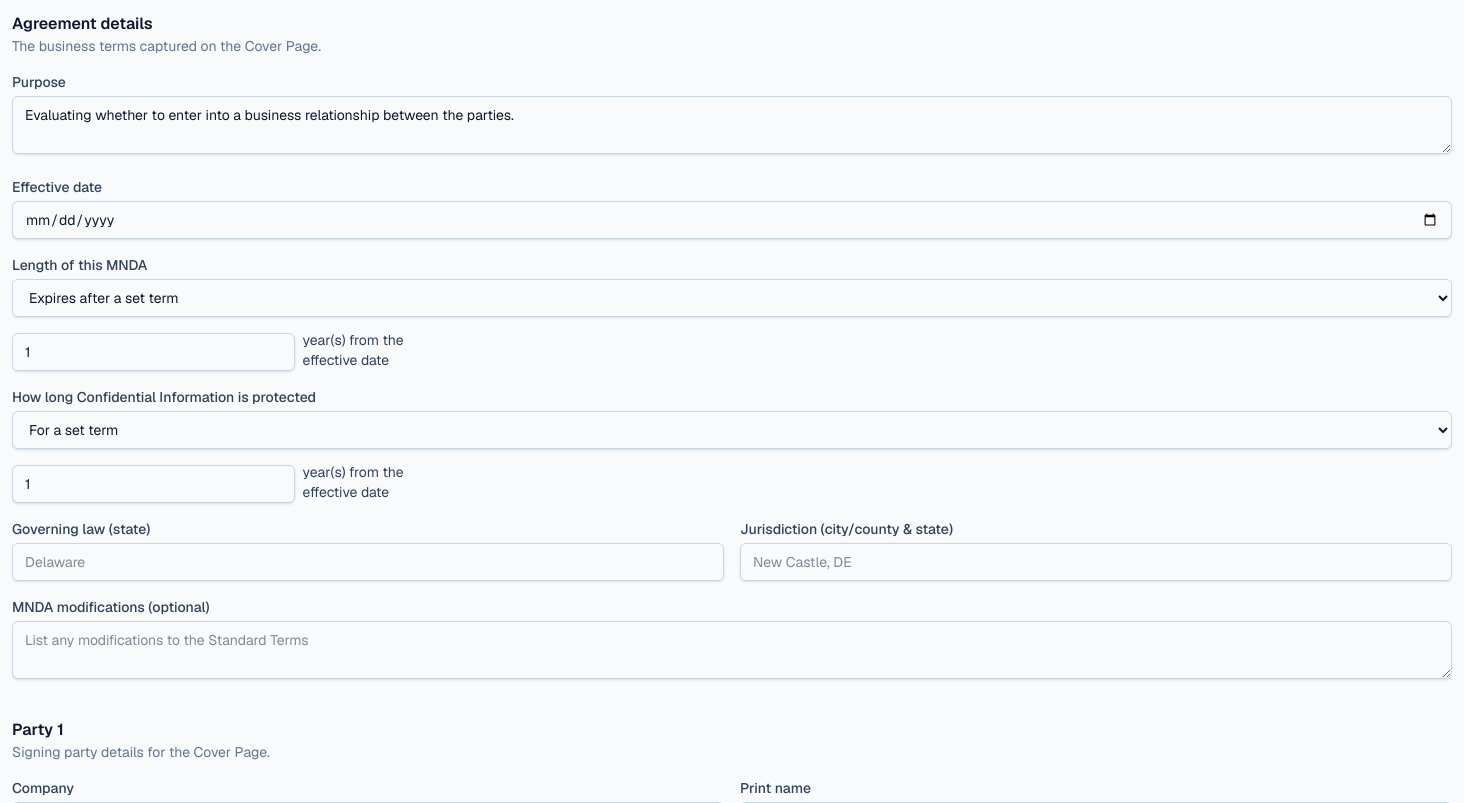
Test: NdaForm › hides the confidentiality year input when set to perpetuity
The width and height of the screenshot is (1464, 803).
Select "In perpetuity" in the dropdown labelled "How long Confidential Information is protected" at (732, 430), box [12,411,1452,449]
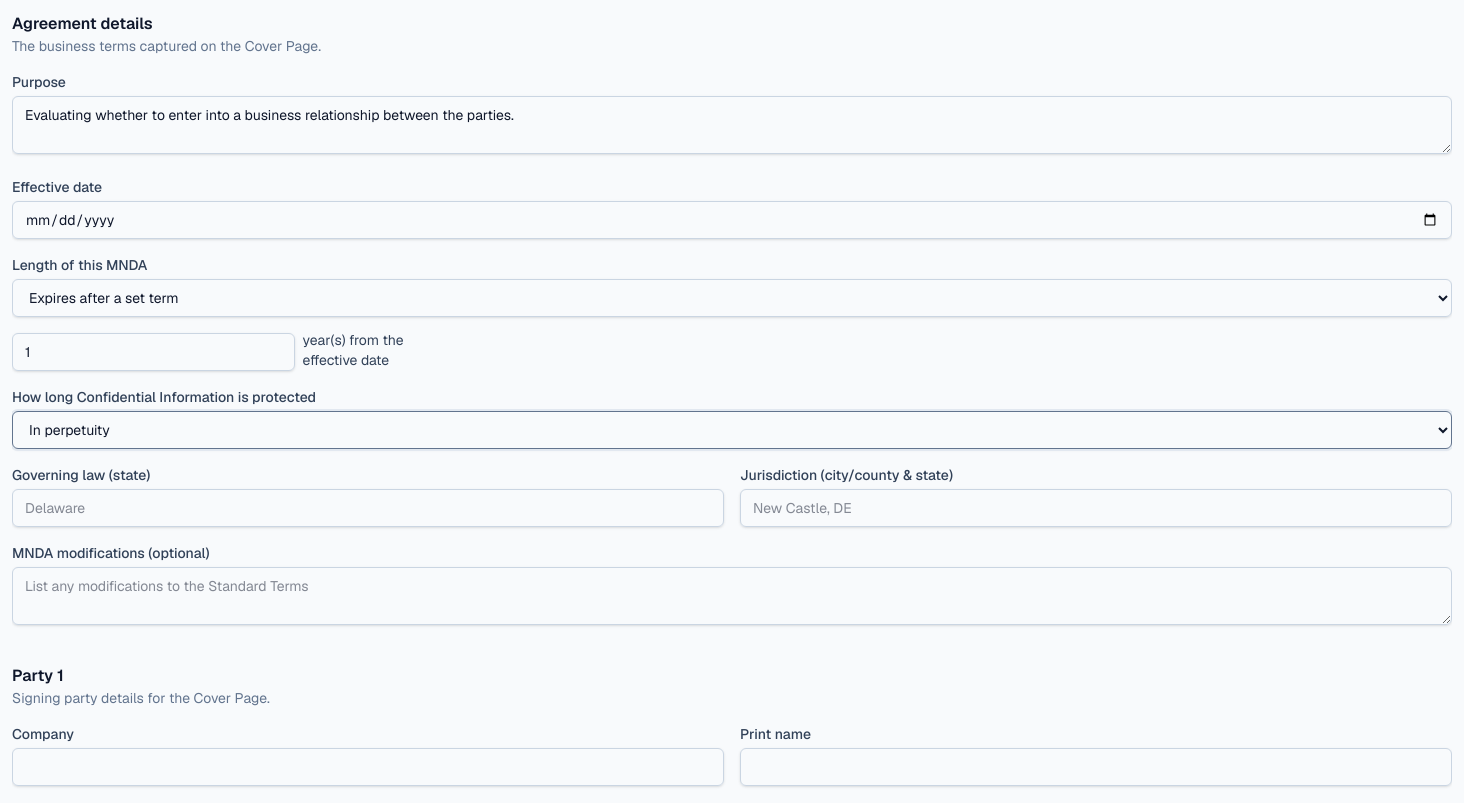
Expected: the number of number fields is 1, [12,333,294,371]
